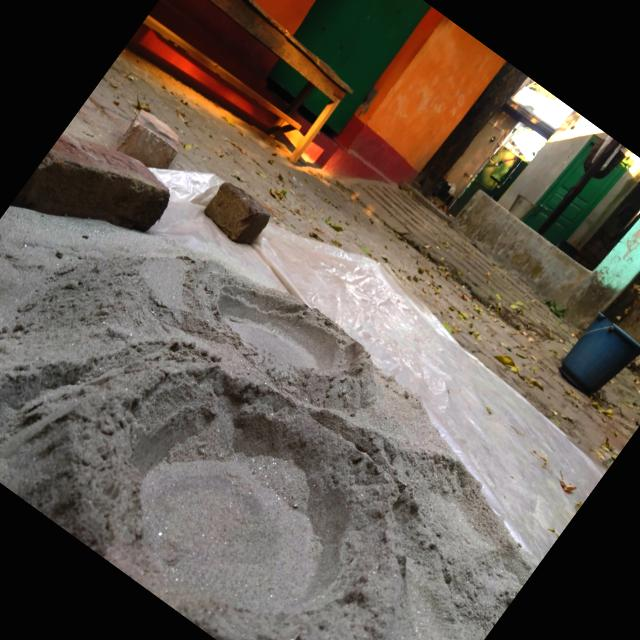C20: (133, 402, 353, 615), (218, 284, 362, 371)
